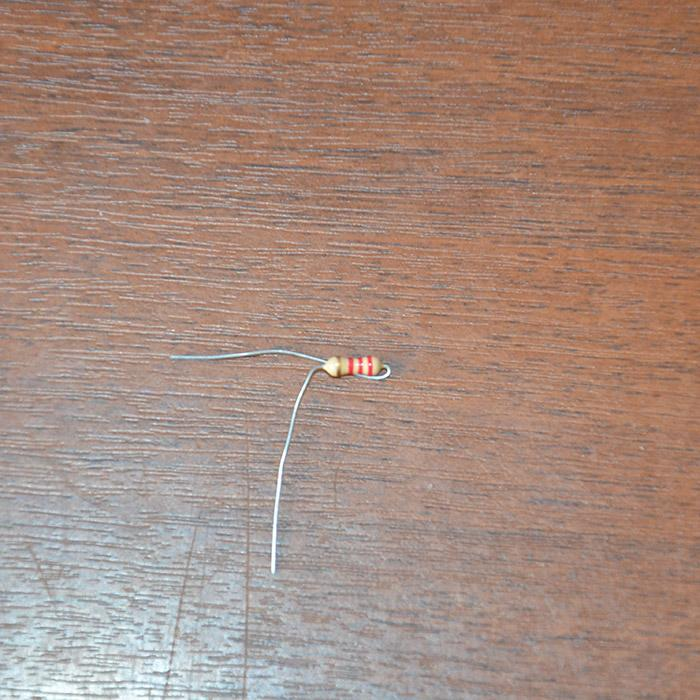resistor: (324, 354, 386, 377)
